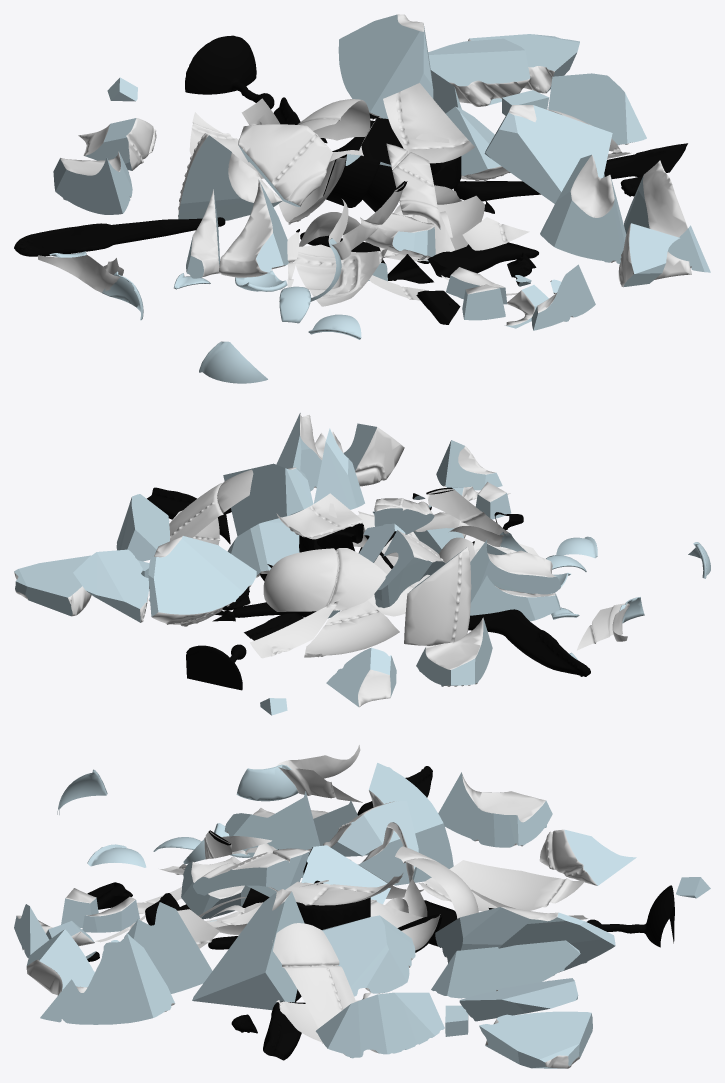
Rendered from NAV_destruidaE 1.fbx.
3 views of the same model, one above another, from view 1: azimuth 30°, elevation 25°; view 2: azimuth 150°, elevation 25°; view 3: azimuth 270°, elevation 25° (orthographic). The views are drawn at different scales.
Visible parts, largest first — view 1: Roundcube_cell.035; view 2: Roundcube_cell.035; view 3: Roundcube_cell.035.
Part boxes in pixels (box(x1,y1,x2,y2)): Roundcube_cell.035: box(14, 14, 710, 383); Roundcube_cell.035: box(14, 413, 710, 715); Roundcube_cell.035: box(14, 745, 710, 1068).
Size of the model in its own units: 2295 by 354 by 2190.
